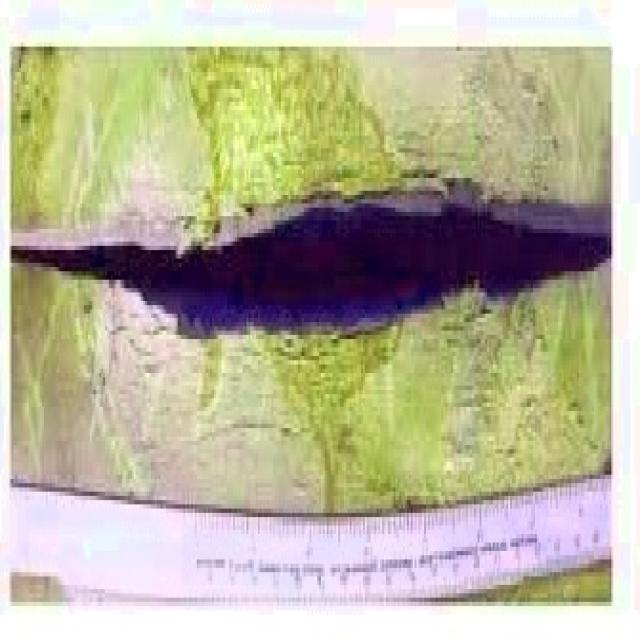Hole: (17, 157, 615, 398)
